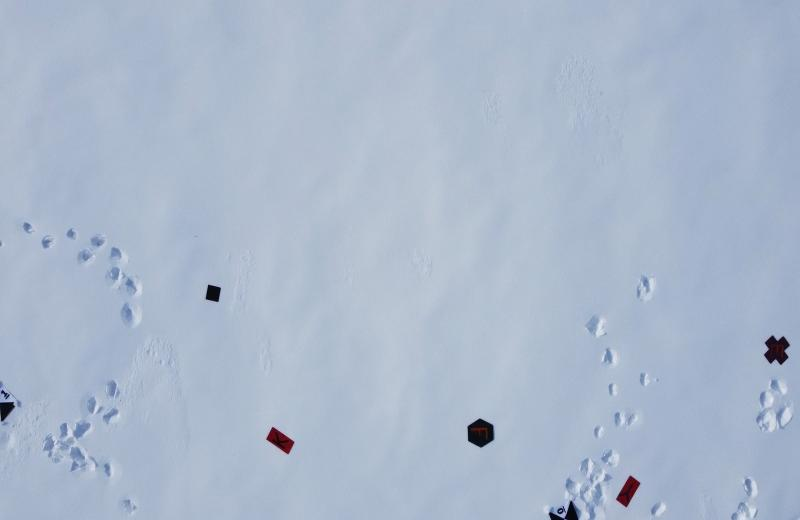Cross: (763, 332, 790, 367)
Hexagon: (467, 416, 495, 450)
Rectangle: (266, 427, 297, 457), (617, 473, 641, 511)
Square: (204, 281, 223, 303)
